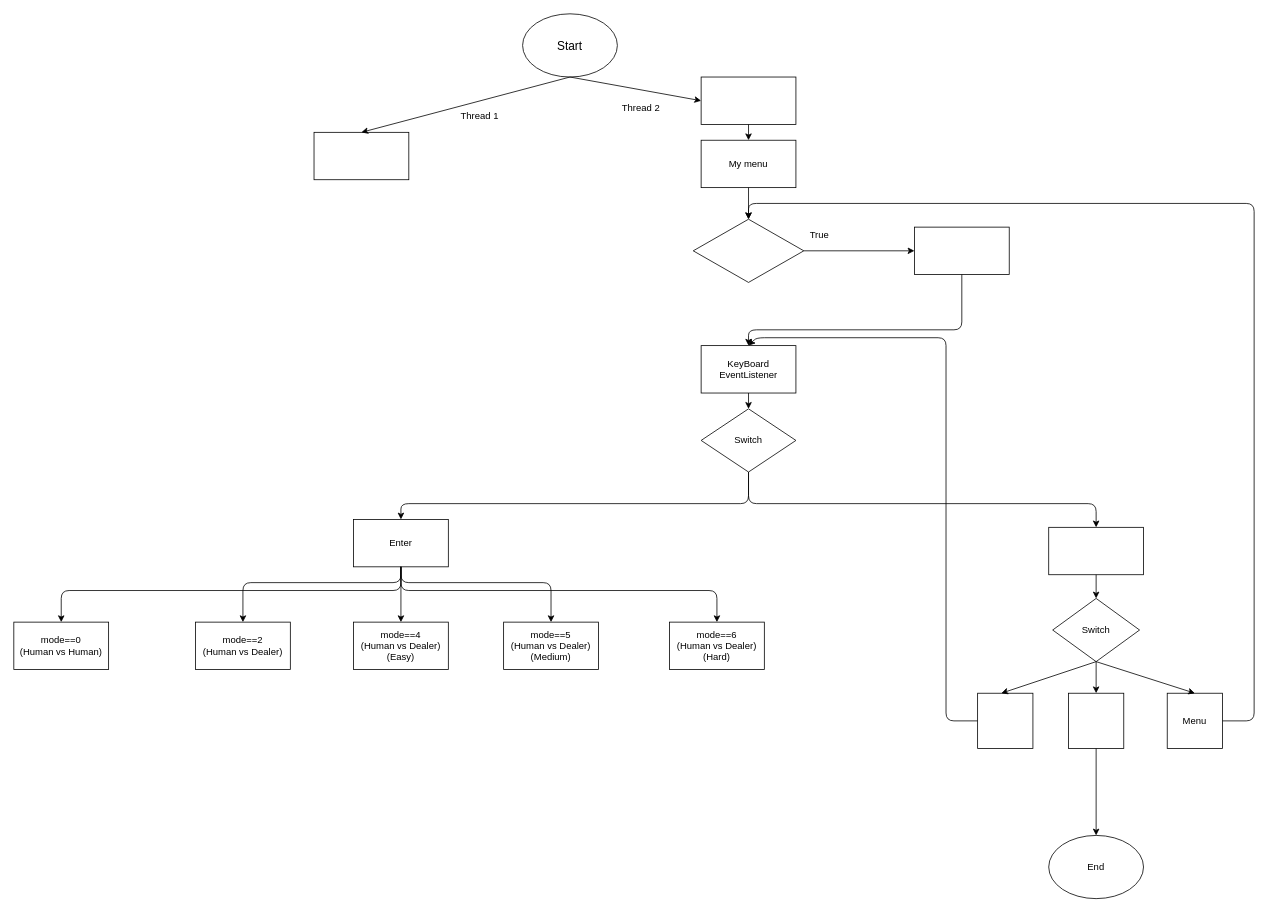
Image size: 1274x912. Some labels were removed from this diagram. Each missing label, with the centre of its shape:
Animation: [361,156]
Continue: [1005,720]
Esc: [1096,551]
input mode: [961,250]
menu=1 option=0 mode=0: [748,100]
menu==1: [748,250]
Quit: [1096,720]
